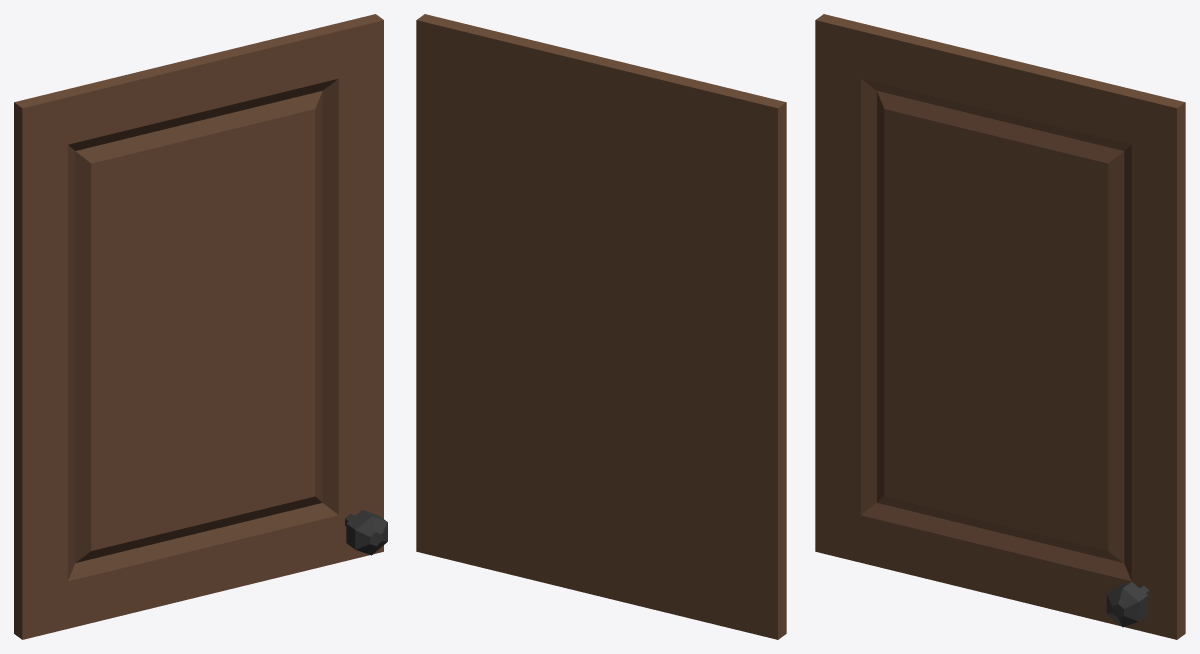
The model's file is Wardrobe7_C3_09.fbx.
3 views of the same model, side by side, from view 1: azimuth 30°, elevation 25°; view 2: azimuth 150°, elevation 25°; view 3: azimuth 330°, elevation 25° (orthographic).
Visible parts, largest first — view 1: Wardrobe7_C3_09; view 2: Wardrobe7_C3_09; view 3: Wardrobe7_C3_09.
Part boxes in pixels (box(x1,y1,x2,y2)): Wardrobe7_C3_09: box(14, 14, 387, 639); Wardrobe7_C3_09: box(416, 14, 786, 639); Wardrobe7_C3_09: box(815, 14, 1185, 639).
Bounding box in the file's own units: 50 × 70.23 × 8.1.
